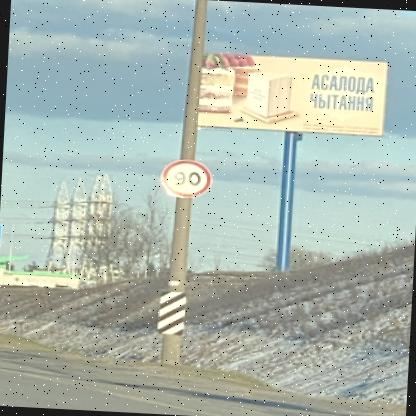speedlimit: (160, 156, 210, 198)
